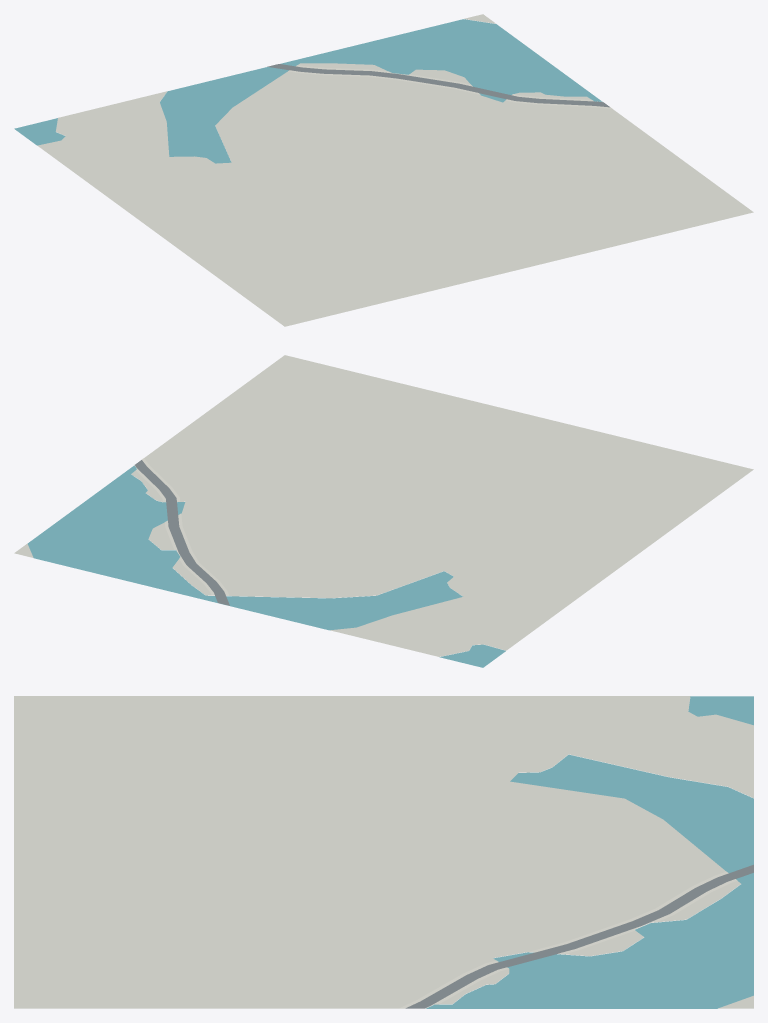
3 renders of one model, top to bottom at view 1: azimuth 30°, elevation 25°; view 2: azimuth 150°, elevation 25°; view 3: azimuth 270°, elevation 25°, orthographic. The views are drawn at different scales.
Visible parts, largest first — view 1: city; view 2: city; view 3: city.
Part boxes in pixels (bbox=[...]): city: bbox=[14, 14, 753, 326]; city: bbox=[14, 355, 753, 667]; city: bbox=[14, 696, 753, 1008].
Bounding box in the file's own units: 500 × 0.4 × 500.
